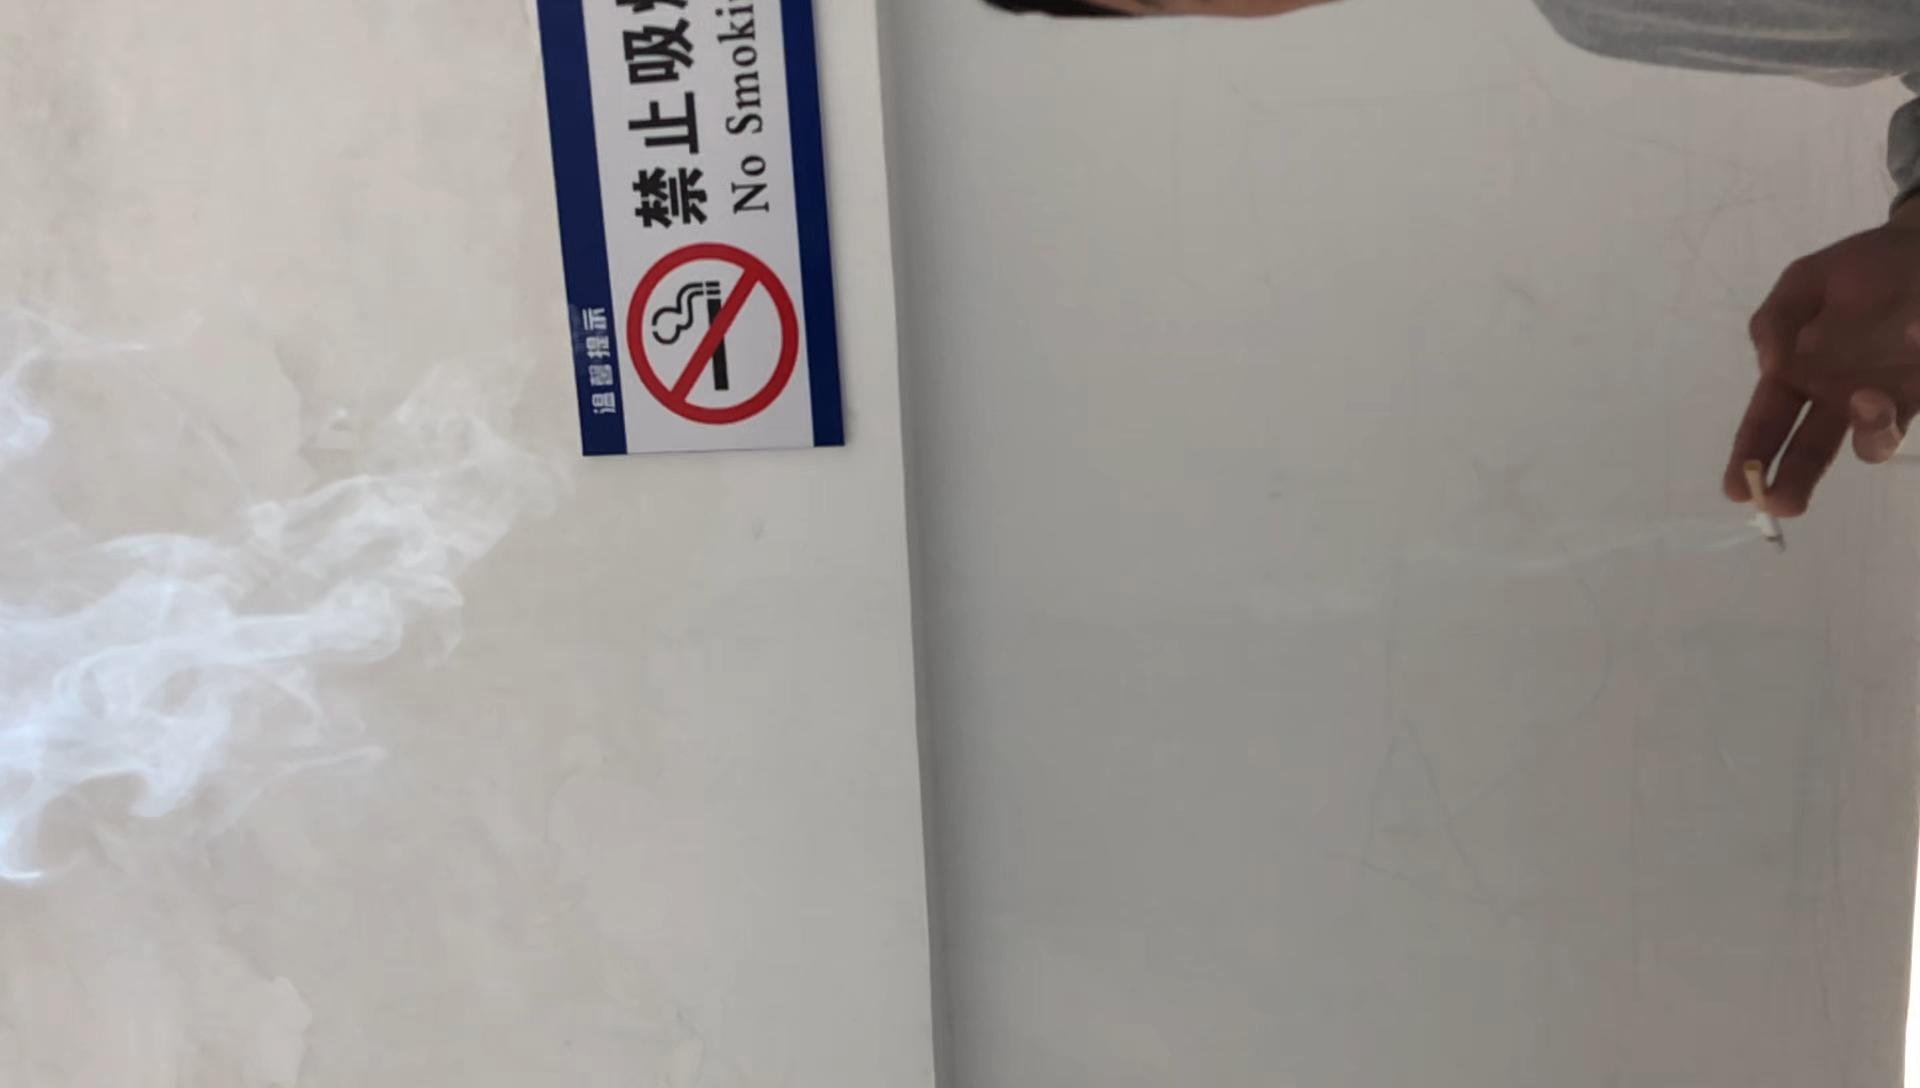yanwu: (1, 473, 495, 885)
